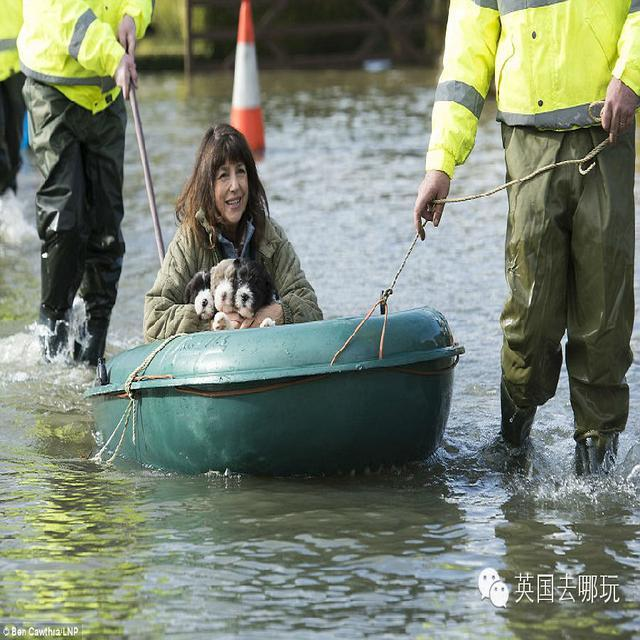Person-RiskLevel2: (414, 3, 640, 480), (23, 4, 160, 371)
Person-RiskLevel3: (147, 114, 333, 349)
